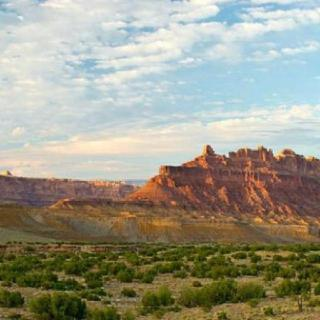Cirrostratus: (0, 0, 320, 166)
